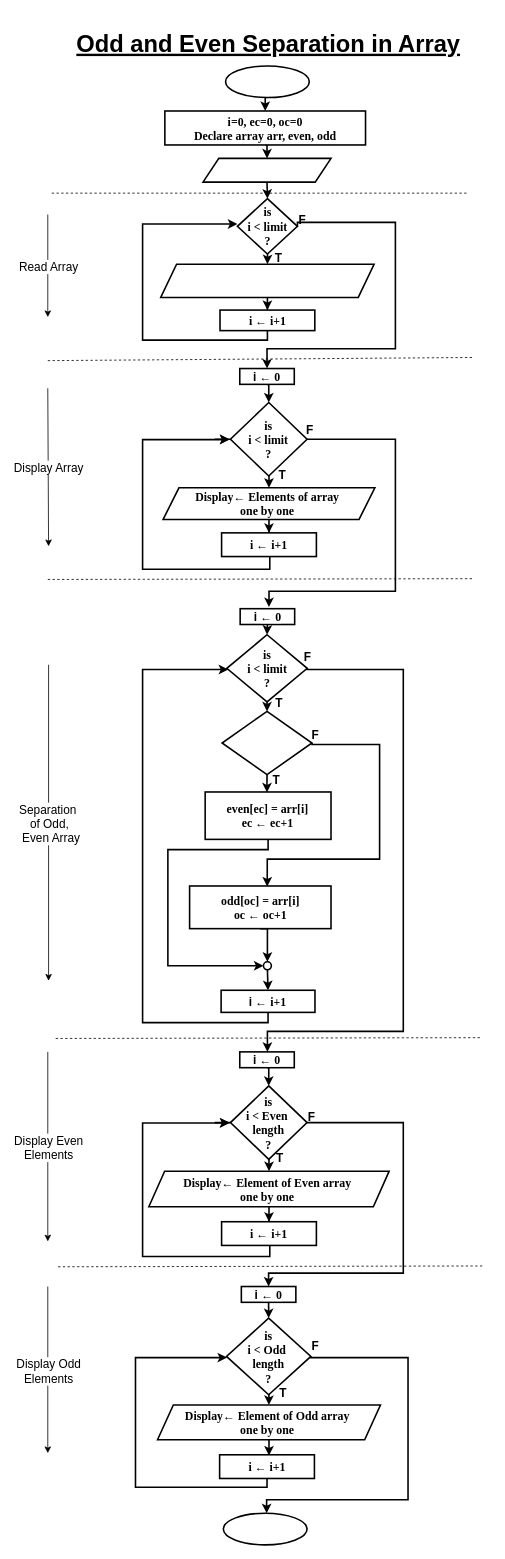
Image size: 505x1559. Some labels were removed from this diagram. The shapes that lost their labels are listed below. From the top down, each one's centre as x and y in pixels, then its label:
At point 267,81: "Start".
At point 266,169: "input ← limit".
At point 267,280: "Input ← input elements of array one by one".
At point 266,742: "is arr[i]%2==0 ?".
At point 264,1528: "Stop".
